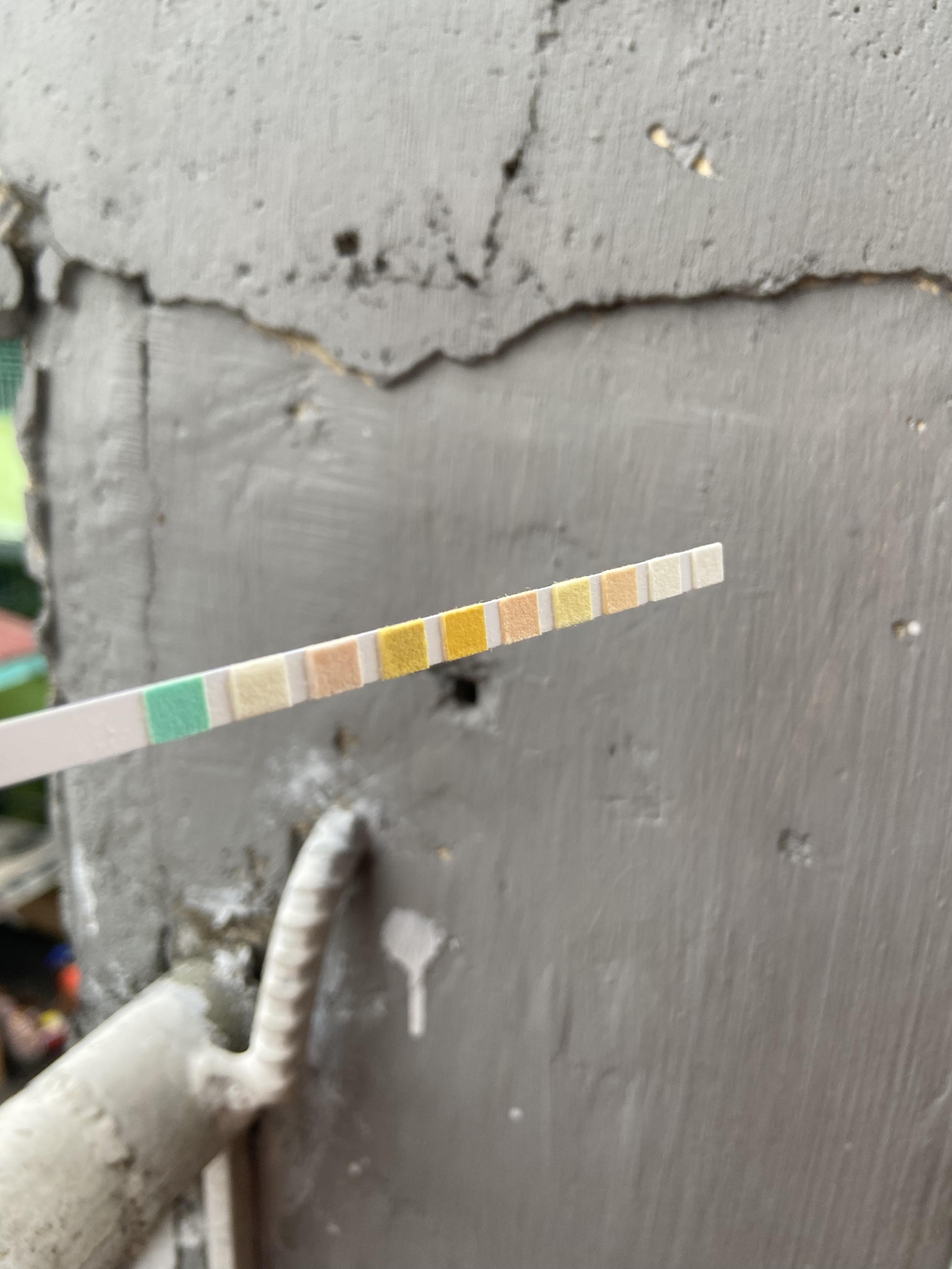Bilirubin: (234, 664, 285, 710)
Blood: (445, 615, 483, 652)
Glucose: (150, 688, 202, 734)
Ketone: (310, 649, 359, 690)
Leukocytes: (693, 547, 722, 582)
Nitrite: (648, 560, 679, 595)
Protein: (552, 585, 590, 621)
SpGravity: (379, 631, 425, 669)
Urobilinogen: (602, 570, 635, 608)
pH: (499, 600, 538, 636)
strip: (0, 542, 723, 787)
